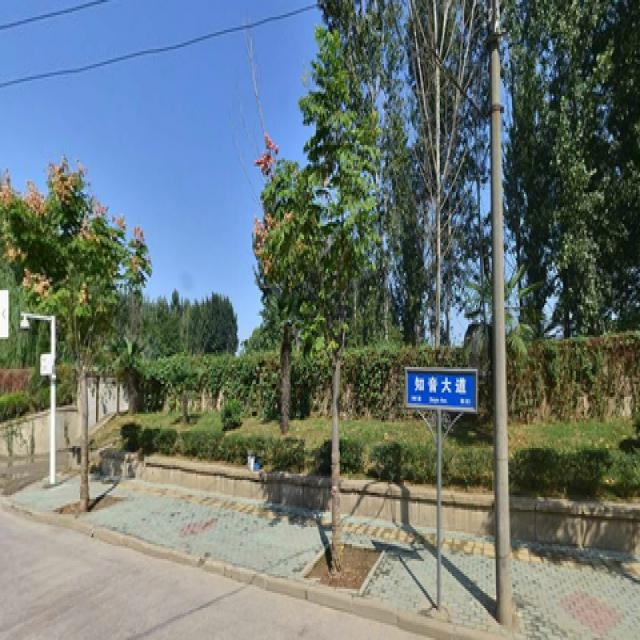koel: (263, 141, 369, 567), (35, 179, 128, 493)
